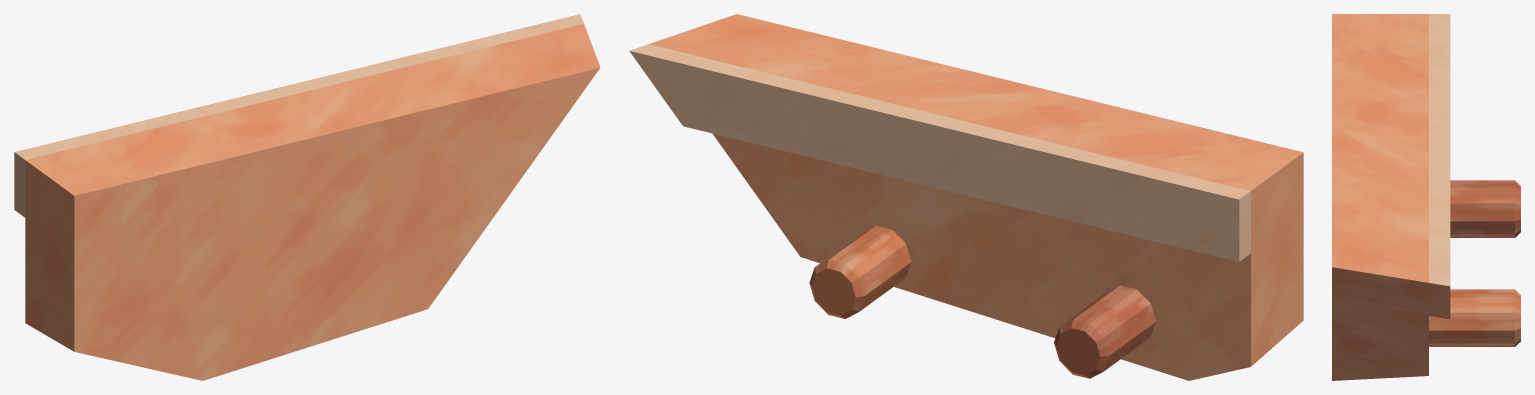
File: wall2_upper_s04.fbx
The picture shows the model from 3 angles, left to right: view 1: azimuth 30°, elevation 25°; view 2: azimuth 150°, elevation 25°; view 3: azimuth 270°, elevation 25°; orthographic projection. The views are drawn at different scales.
Parts seen in each view (by area): view 1: wall2_upper_s04; view 2: wall2_upper_s04; view 3: wall2_upper_s04.
Boxes of the visible parts, x1,y1,x2,y2 form: wall2_upper_s04: (14,14,600,380); wall2_upper_s04: (629,14,1303,380); wall2_upper_s04: (1332,14,1520,380).
Size of the model in its own units: 6.65 by 2.43 by 1.95.
